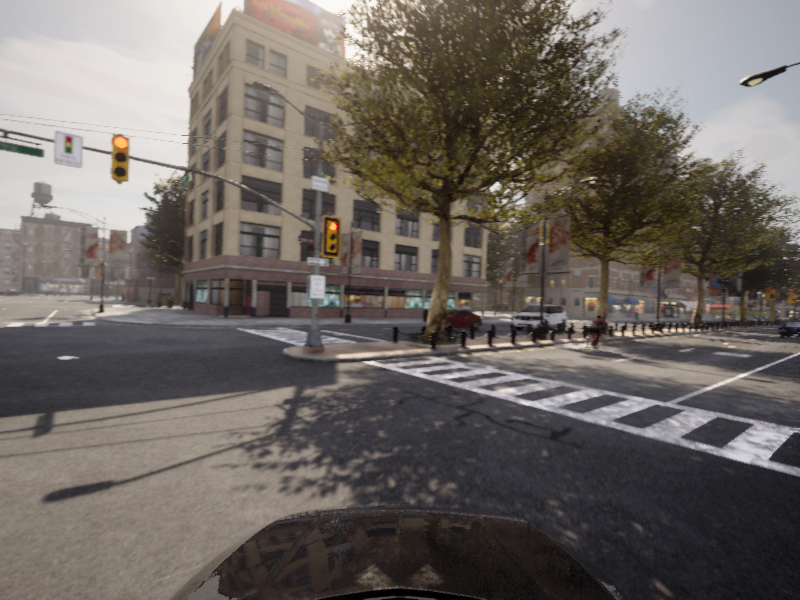vehicle: (510, 302, 570, 333), (421, 308, 486, 331), (580, 314, 612, 353), (777, 321, 799, 341)
